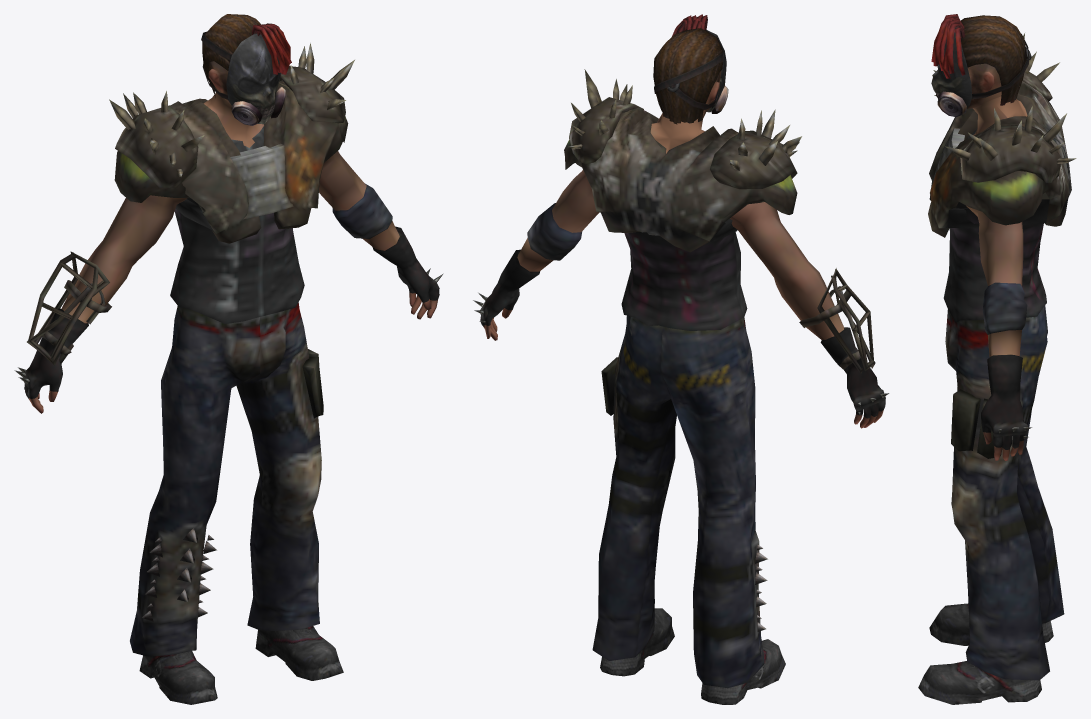
File: doomsday madnessM.FBX
The picture shows the model from 3 angles, left to right: view 1: azimuth 30°, elevation 25°; view 2: azimuth 150°, elevation 25°; view 3: azimuth 270°, elevation 25°; orthographic projection. The views are drawn at different scales.
Parts seen in each view (by area): view 1: Mesh_0403.rip; view 2: Mesh_0403.rip; view 3: Mesh_0403.rip.
Part boxes in pixels (<box>): Mesh_0403.rip: <box>14,14,443,704</box>; Mesh_0403.rip: <box>473,14,889,704</box>; Mesh_0403.rip: <box>918,14,1076,704</box>.
Size of the model in its own units: 1.24 by 1.84 by 0.4037.
1 material, 1 textured.
